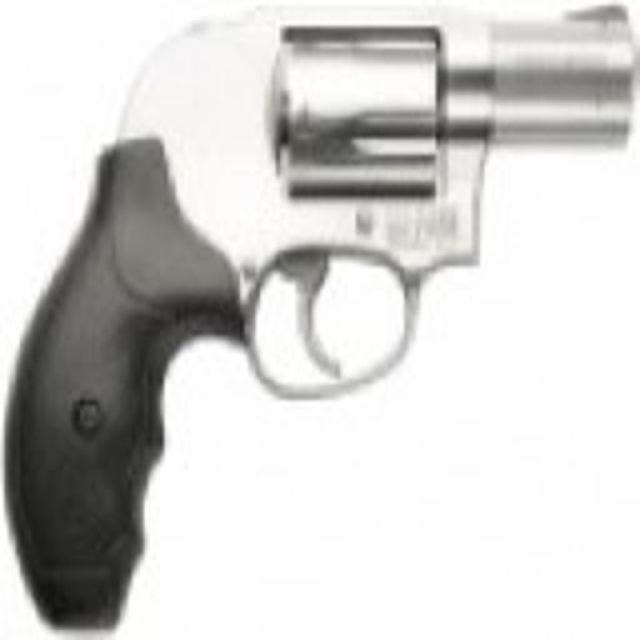pistol: (3, 5, 631, 634)
